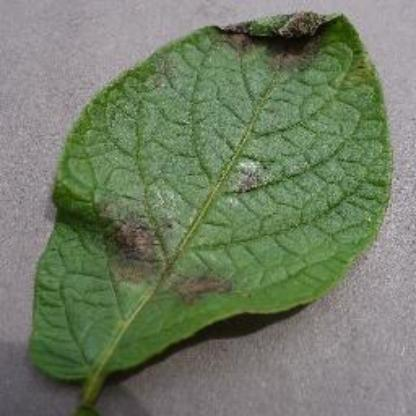Late-Blight: (19, 8, 409, 408)
